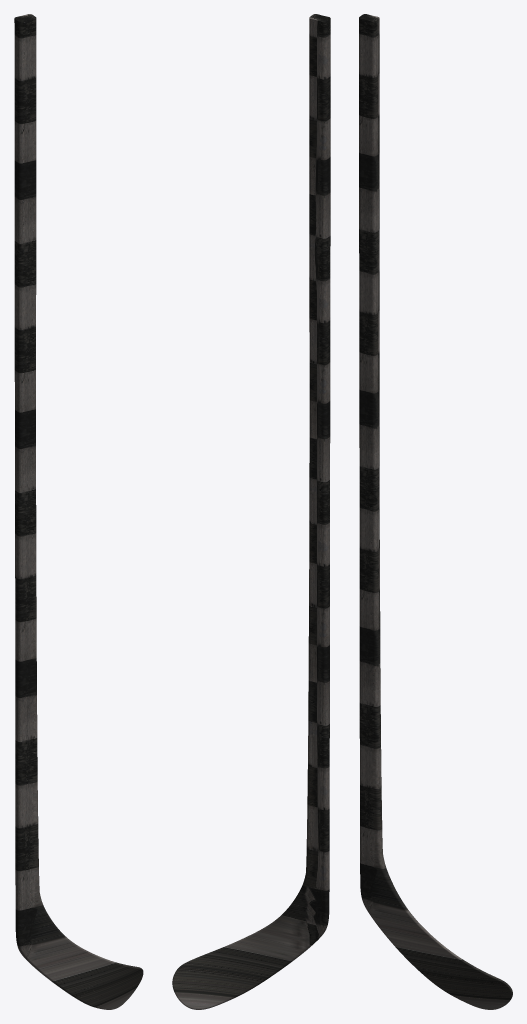
File: P50-SBT.glb
3 renders of one model, left to right at view 1: azimuth 30°, elevation 25°; view 2: azimuth 150°, elevation 25°; view 3: azimuth 330°, elevation 25°, orthographic. The views are drawn at different scales.
Visible parts, largest first — view 1: geometry_0; view 2: geometry_0; view 3: geometry_0.
Boxes of the visible parts, bbox=[...] form: geometry_0: bbox=[14, 14, 143, 1009]; geometry_0: bbox=[172, 14, 330, 1009]; geometry_0: bbox=[359, 14, 512, 1009].
Size of the model in its own units: 240 by 1650 by 66.62.
Materials: 1 (1 with a texture image).
